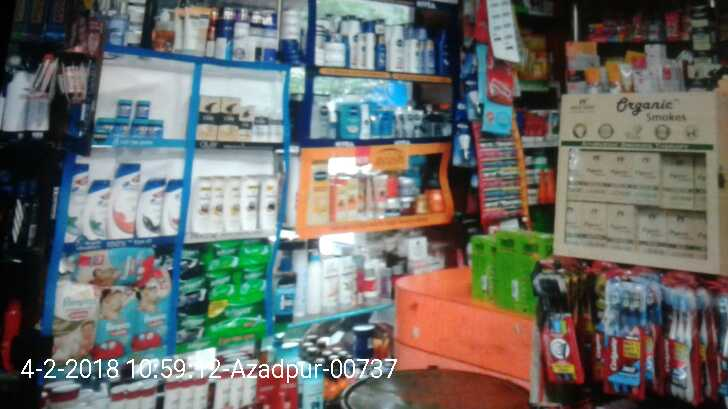vicks: (99, 97, 165, 137)
